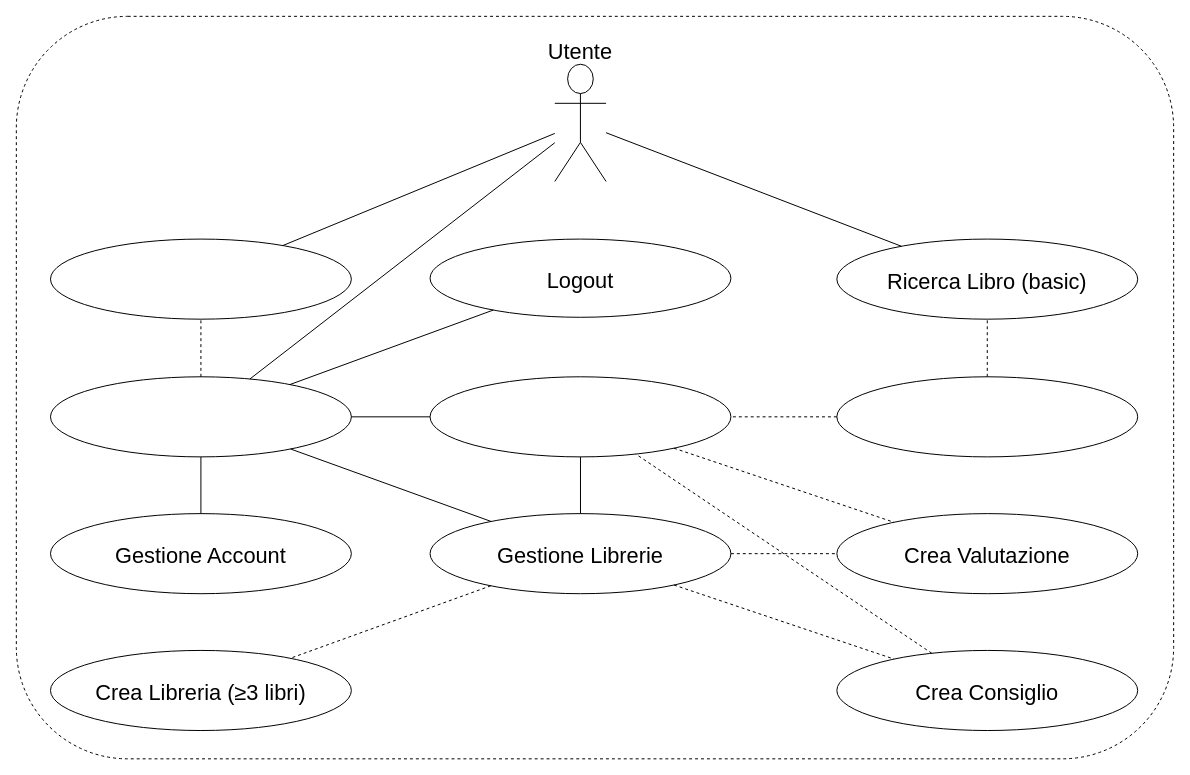
Some shapes in this 1190 by 775 pixel diagram are drawn without their labels. Here are the shapes that lost their labels. From the top down, the centre of each, then its label:
(200,278): Registrazione
(200,416): Login
(580,416): Ricerca Libro (advanced)
(987,416): Visualizza Info Libro
